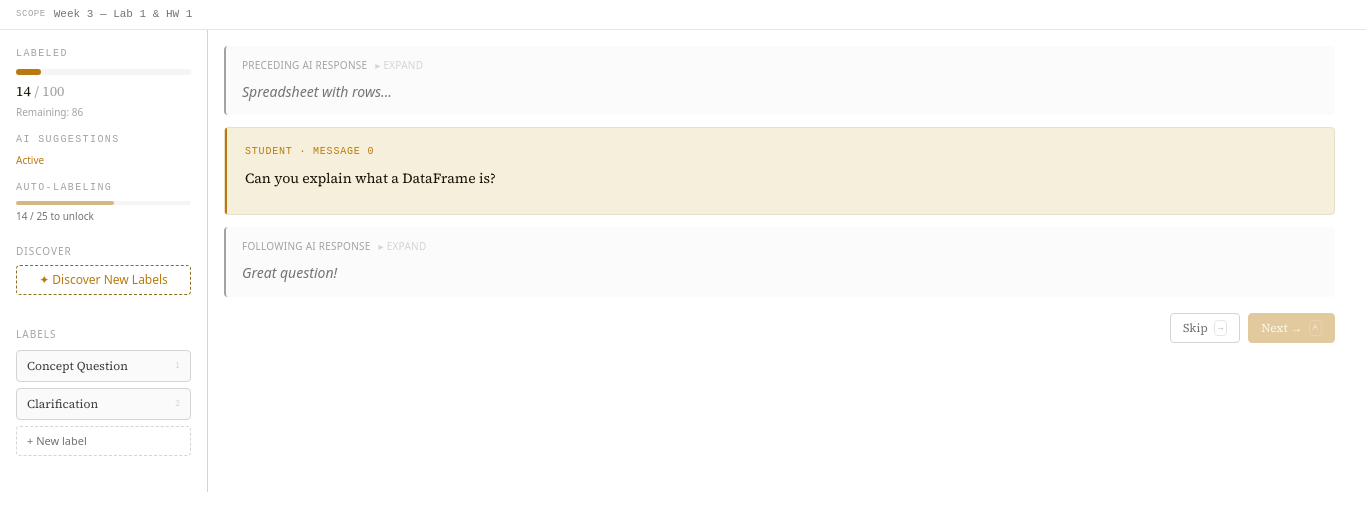
Next button advances after labeling
Check: the text "Can you explain what a DataFrame is?" is shown, box top-left (245, 168), bottom-right (496, 188)
# Apply a label
Click the button "Concept Question 1". click: (104, 366)
box: top-left (16, 350), bottom-right (191, 382)
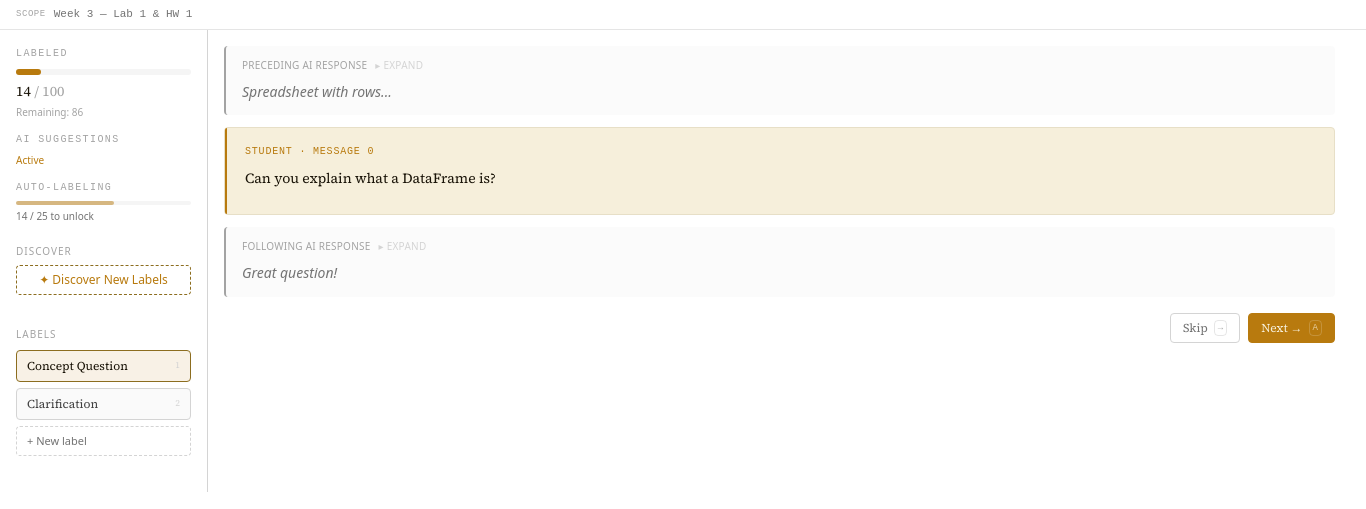
Check: the button "Next → A" is enabled
Click the button "Next → A". click: (1292, 328)
box: top-left (1248, 313), bottom-right (1335, 343)
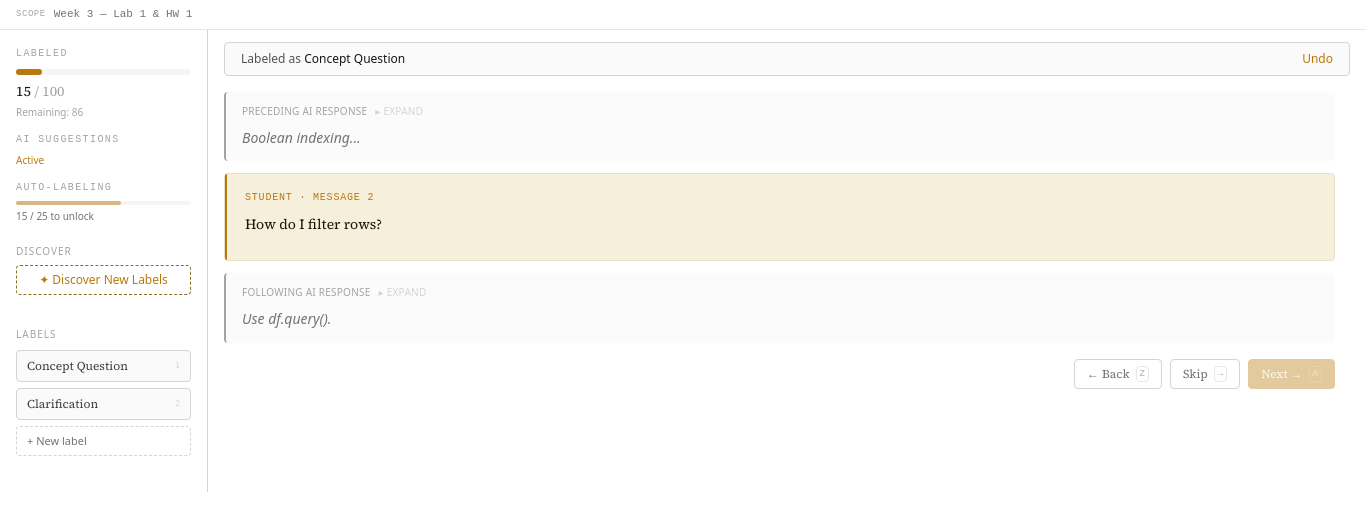
Check: the text "How do I filter rows?" is shown, box top-left (245, 214), bottom-right (382, 234)
